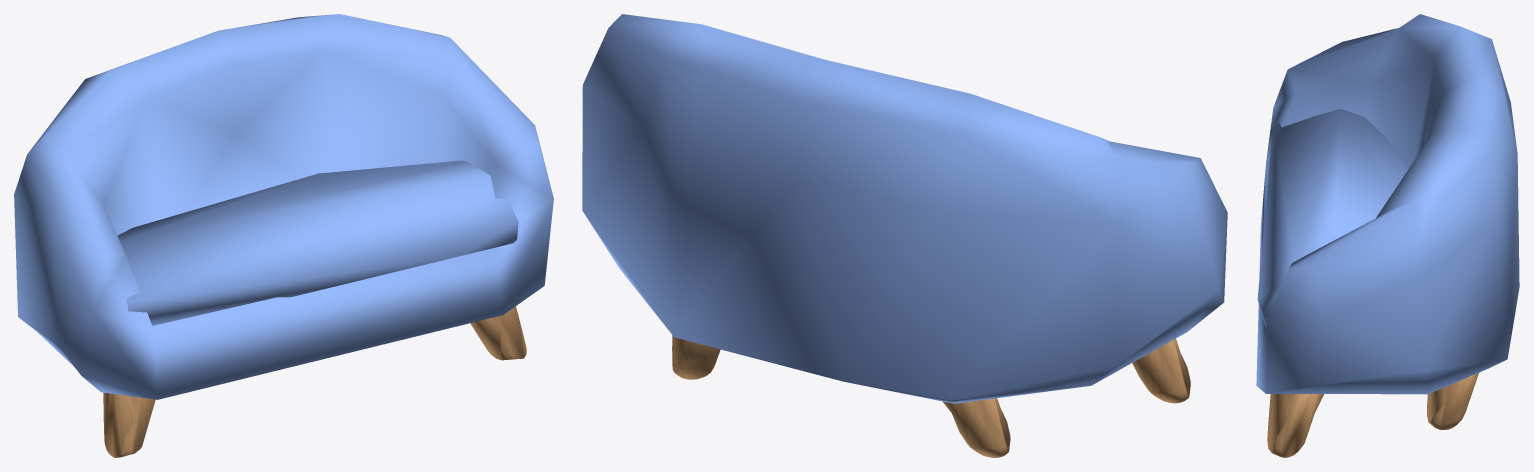
File: Sofa1.glb
3 renders of one model, left to right at view 1: azimuth 30°, elevation 25°; view 2: azimuth 150°, elevation 25°; view 3: azimuth 270°, elevation 25°, orthographic. The views are drawn at different scales.
Parts seen in each view (by area): view 1: 3d66-Editable_Poly-22615270-126, 3d66-Editable_Poly-22615270-127; view 2: 3d66-Editable_Poly-22615270-126, 3d66-Editable_Poly-22615270-127; view 3: 3d66-Editable_Poly-22615270-126, 3d66-Editable_Poly-22615270-127.
Boxes of the visible parts, left/top/right/bottom form: 3d66-Editable_Poly-22615270-126: left=14, top=14, right=553, bottom=399; 3d66-Editable_Poly-22615270-127: left=103, top=306, right=526, bottom=457; 3d66-Editable_Poly-22615270-126: left=582, top=14, right=1227, bottom=403; 3d66-Editable_Poly-22615270-127: left=672, top=335, right=1190, bottom=457; 3d66-Editable_Poly-22615270-126: left=1256, top=14, right=1519, bottom=394; 3d66-Editable_Poly-22615270-127: left=1267, top=373, right=1478, bottom=457.
Bounding box in the file's own units: 1.41 × 0.852 × 0.6868.
2 materials, 1 textured.
